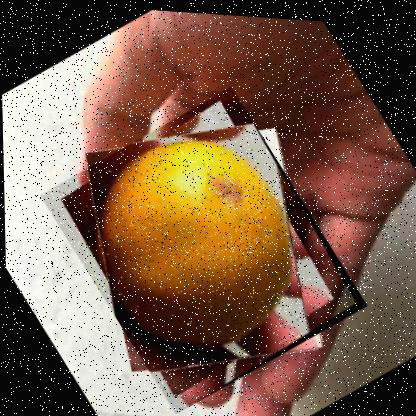orange: (36, 71, 370, 415)
